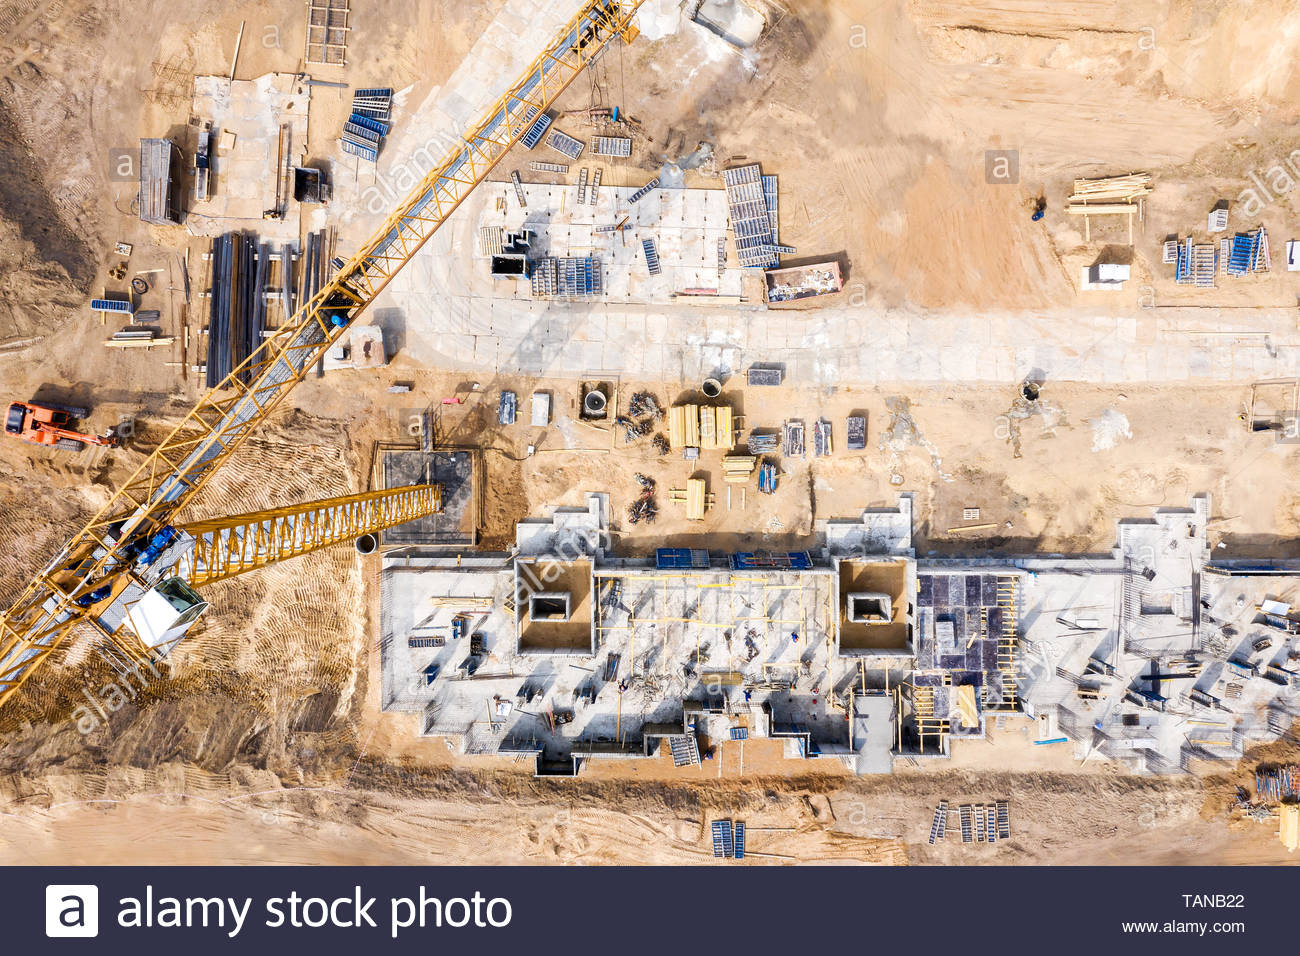crane: (3, 5, 643, 705)
